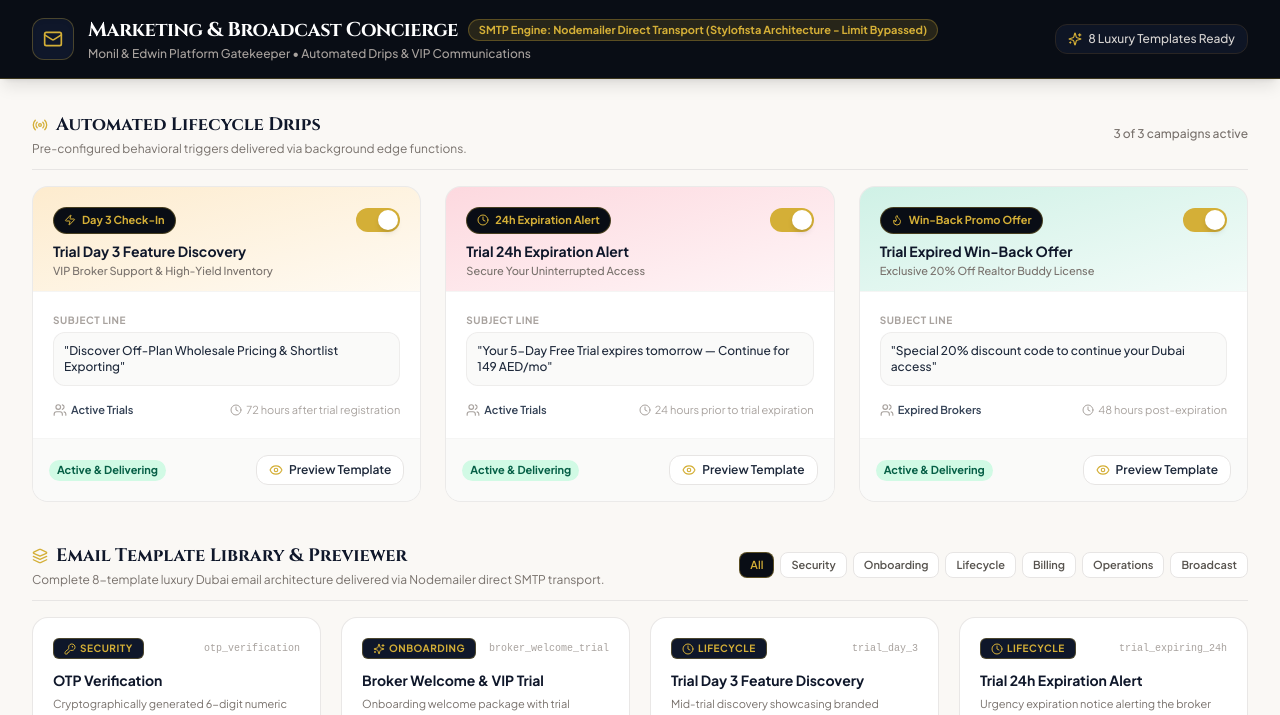
AdminMarketing Component › toggles automated campaign status via toggleMarketingCampaign with optimistic UI update
Toggle off
Click the switch named "Toggle Trial Day 3 Feature Discovery".
click(378, 220)  # box 356,208 -> 400,232
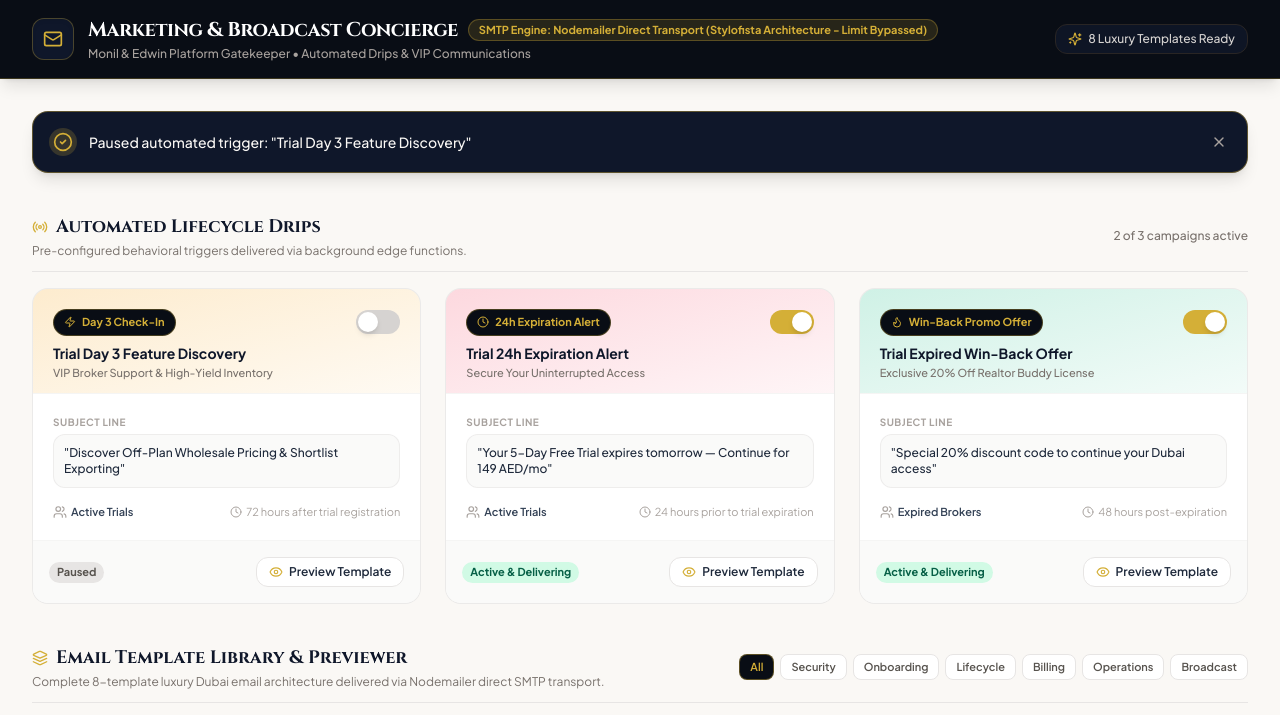
Now the switch named "Toggle Trial Day 3 Feature Discovery" is not checked, box 356,310 -> 400,334
Now the text "Paused automated trigger: \"Trial Day 3 Feature Discovery\"" is shown, box 89,132 -> 472,152
